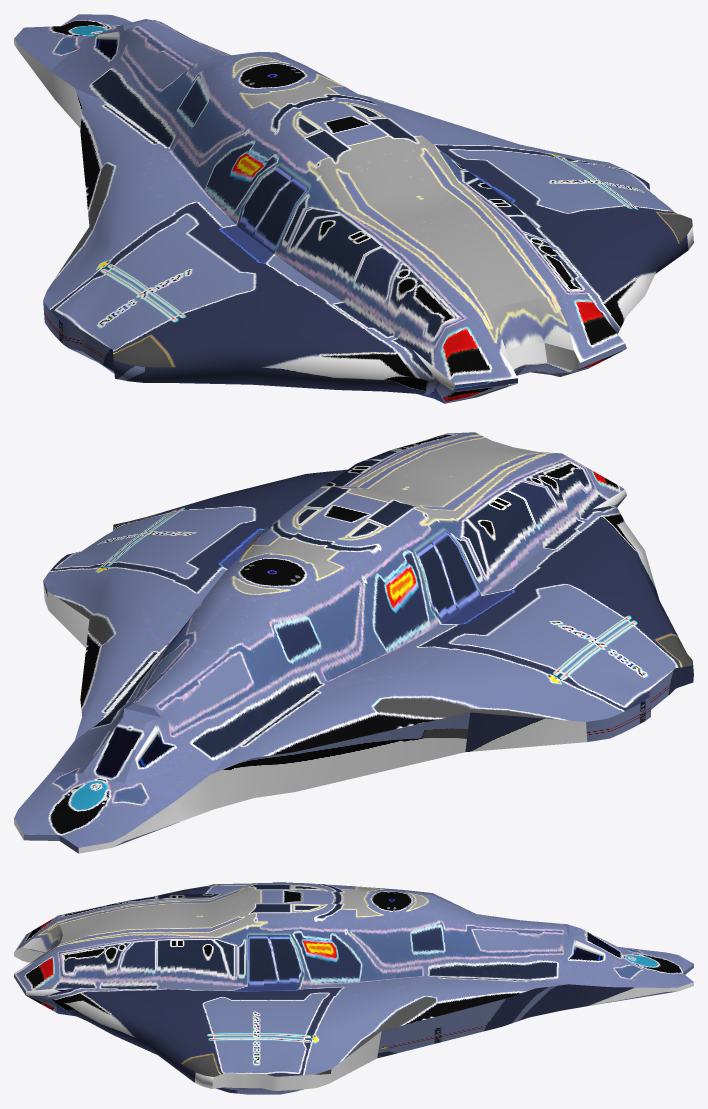
File: Player Space Ship.FBX
3 views of the same model, one above another, from view 1: azimuth 30°, elevation 25°; view 2: azimuth 150°, elevation 25°; view 3: azimuth 270°, elevation 25° (orthographic). The views are drawn at different scales.
Parts seen in each view (by area): view 1: Box001; view 2: Box001; view 3: Box001.
Boxes of the visible parts, x1,y1,x2,y2 form: Box001: [14, 14, 693, 403]; Box001: [14, 432, 693, 853]; Box001: [14, 882, 693, 1094].
Bounding box in the file's own units: 9.58 × 2.99 × 14.16.
Materials: 2 (2 with a texture image).
